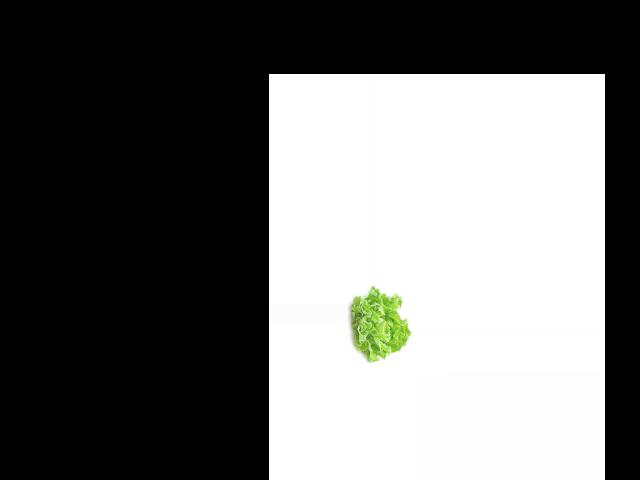lettuce: (348, 287, 410, 360)
